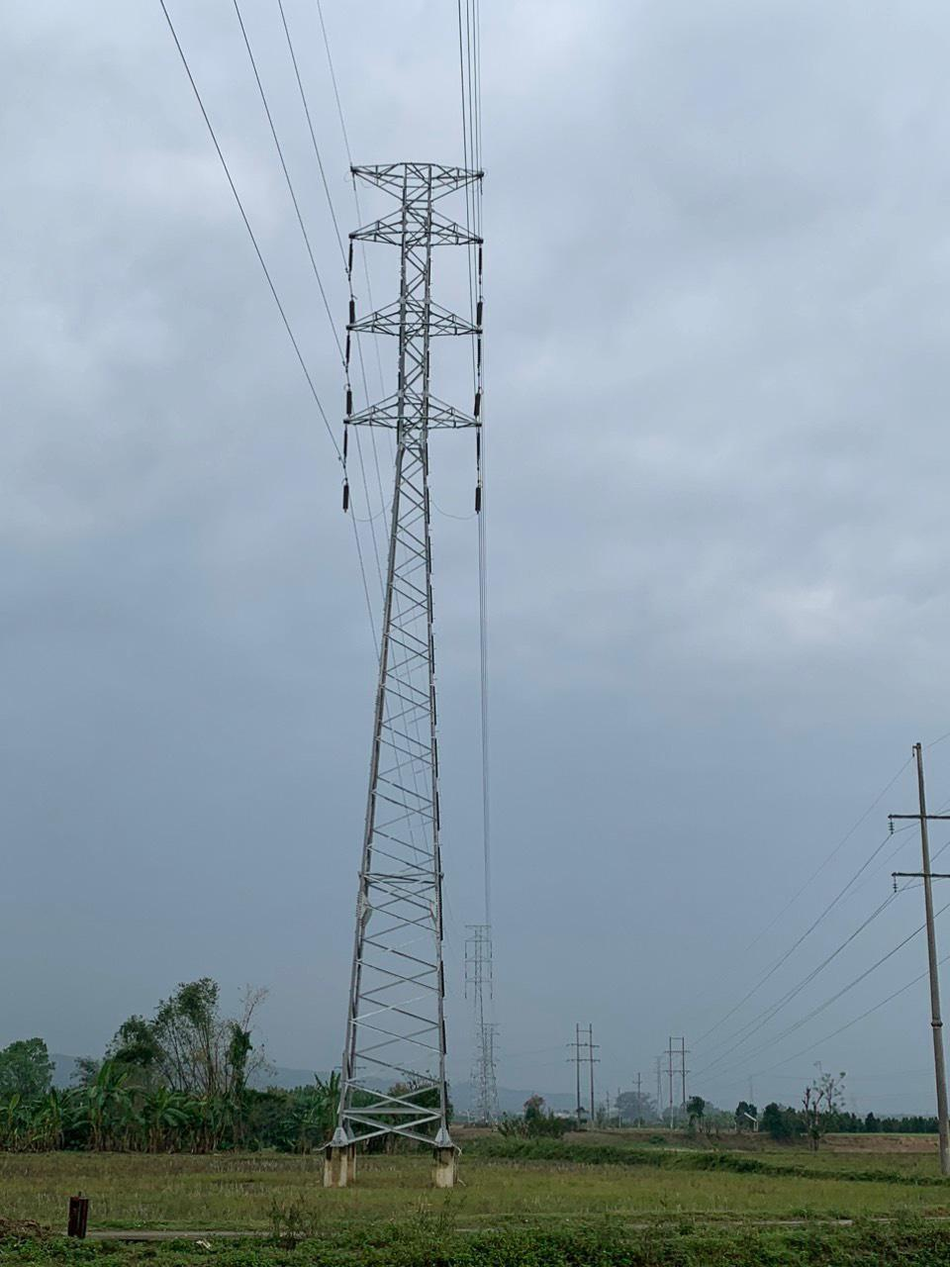power_tower: (334, 145, 465, 1182)
